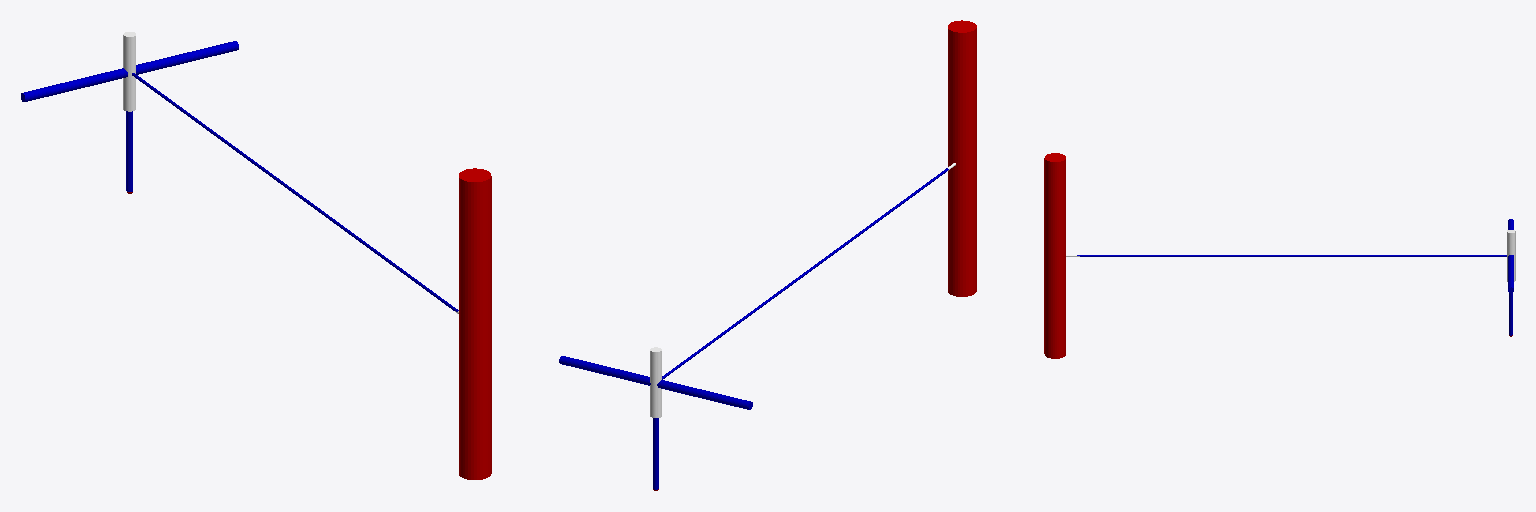
robot.urdf — 1dhopper:
<?xml version="1.0"?>
<robot name="1dhopper">
   <material name="blue">
    <color rgba="0 0 0.8 1"/>
  </material>

  <material name="red">
   <color rgba="0.8 0 0 1"/>
 </material>

  <material name="white">
    <color rgba="1 1 1 0.5"/>
  </material>

  <link name="base">
    <visual>
      <geometry>
        <cylinder length="2" radius="0.1"/>
      </geometry>
      <material name="red"/>
      <origin rpy="0 0 1.57075" xyz="0 0 0"/>
    </visual>
    <collision>
       <geometry>
         <cylinder length="2" radius="0.1"/>
       </geometry>
       <origin rpy="0 0 1.57075" xyz="0 0 0"/>
     </collision>
     <inertial>
     <mass value="1000"/>
     <origin rpy="0 0 1.57075" xyz="0 0 0"/>
     <inertia ixx="0.4" ixy="0.0" ixz="0.0" iyy="0.4" iyz="0.0" izz="0.2"/>
   </inertial>
  </link>

<link name="L1">
    <visual>
      <geometry>
        <cylinder length="0.15" radius="0.01"/>
      </geometry>
      <material name="white"/>
      <origin rpy="1.57075 0 0" xyz="0 0.15 0"/>
    </visual>
    <collision>
       <geometry>
         <cylinder length="0.15" radius="0.01"/>
       </geometry>
       <origin rpy="1.57075 0 0" xyz="0 0.15 0"/>
     </collision>
  <inertial>
     <mass value="0"/>
     <inertia ixx="0.4" ixy="0.0" ixz="0.0" iyy="0.4" iyz="0.0" izz="0.2"/>
     <origin rpy="1.57075 0 0" xyz="0 0.15 0"/>
  </inertial>
</link>

 <joint name="base_jiont_L1" type="continuous">
      <parent link="base"/>
      <child link="L1"/>
       <axis xyz="0 0 1"/>
      <origin xyz="0 0 0"/>
    </joint>

<link name="L2">
    <visual>
      <geometry>
        <cylinder length="4" radius="0.01"/>
      </geometry>
      <material name="blue"/>
      <origin rpy="1.57075 0 0" xyz="0 2 0"/>
    </visual>
  </link>

 <joint name="L1_L2" type="continuous">
      <parent link="L1"/>
      <child link="L2"/>
       <axis xyz="1 0 0"/>
      <origin xyz="0 0.2 0"/>
  </joint>

 <link name="balance_beam">
    <visual>
     <material name="blue"/>
      <geometry>
        <cylinder length="1.5" radius="0.03"/>
      </geometry>
      <origin rpy="0 1.57075 0" xyz="0 0 0"/>
    </visual>
    <collision>
       <geometry>
         <cylinder length="1.5" radius="0.03"/>
       </geometry>
       <origin rpy="0 1.57075 0" xyz="0 0 0"/>
     </collision>
     <inertial>
     <mass value="8"/>
     <inertia ixx="0.4" ixy="0.0" ixz="0.0" iyy="0.4" iyz="0.0" izz="0.2"/>
     <origin rpy="0 1.57075 0" xyz="0 0 0"/>
   </inertial>
  </link>

 <joint name="L2_beam" type="fixed">
      <parent link="L2"/>
      <child link="balance_beam"/>
      <origin xyz="0 4 0"/>
  </joint>

  <link name="base_link">
    <visual>
      <geometry>
        <cylinder length="0.5" radius="0.04"/>
      </geometry>
      <material name="white"/>
    </visual>
    <collision>
       <geometry>
         <cylinder length="0.5" radius="0.04"/>
       </geometry>
     </collision>
     <inertial>
     <mass value="0.15"/>
     <inertia ixx="0.4" ixy="0.0" ixz="0.0" iyy="0.4" iyz="0.0" izz="0.2"/>
   </inertial>

  </link>

  <joint name="base_to_beam" type="revolute">
      <axis xyz="0 1 0"/>
      <limit effort="1000.0" lower="-1.2" upper="1.2" velocity="10"/>
      <parent link="balance_beam"/>
      <child link="base_link"/>
      <origin xyz="0 0 0"/>

    </joint>

    <link name="leg">
        <visual>
          <geometry>
            <cylinder length="0.6" radius="0.02"/>
          </geometry>
          <material name="blue"/>
          <origin rpy="0 0 0" xyz="0 0 0"/>
        </visual>
        <collision>
           <geometry>
             <cylinder length="0.6" radius="0.02"/>
           </geometry>
           <origin rpy="0 0 0" xyz="0 0 0"/>
         </collision>
         <inertial>
         <mass value="0.45"/>
         <inertia ixx="0.4" ixy="0.0" ixz="0.0" iyy="0.4" iyz="0.0" izz="0.2"/>
         <origin rpy="0 0 0" xyz="0 0 -0.4"/>
       </inertial>
      </link>

    <joint name="foot_joint" type="prismatic">
        <axis xyz="0 0 1"/>
        <limit effort="1000.0" lower="0" upper="0.4" velocity="10"/>
        <dynamics damping="10.5" friction="0.8"/>
        <parent link="base_link"/>
        <child link="leg"/>
        <origin xyz="0 0 -0.5"/>

      </joint>

      <link name="toe">
        <visual>
          <geometry>
            <sphere radius="0.02"/>
          </geometry>
          <material name="red"/>
        </visual>
        <collision>
          <geometry>
            <sphere radius="0.02"/>
          </geometry>
         </collision>
         <inertial>
         <mass value="0.45"/>
         <mass value="0.01"/>
         <!-- <inertia ixx="1.0" ixy="0.0" ixz="0.0" iyy="1.0" iyz="0.0" izz="1.0"/> -->
       </inertial>

      </link>

      <joint name="leg_toe" type="fixed">
          <parent link="leg"/>
          <child link="toe"/>
          <origin xyz="0 0 -0.3"/>
        </joint>


</robot>

--- Render facts (derived) ---
3 views of the same robot in one strip: view 1: azimuth 30°, elevation 25°; view 2: azimuth 150°, elevation 25°; view 3: azimuth 270°, elevation 25° (orthographic).
Robot: 1dhopper — 7 links, 6 joints (1 revolute, 2 continuous, 1 prismatic, 2 fixed); root link base; default pose: every joint at zero.
Links seen in each view (by area): view 1: base, balance_beam, L2, base_link, leg; view 2: base, balance_beam, L2, base_link; view 3: base, L2.
Boxes of the visible links, x1,y1,x2,y2 form: base: [459, 168, 491, 479]; balance_beam: [21, 41, 238, 101]; L2: [132, 73, 458, 311]; base_link: [123, 32, 135, 111]; leg: [126, 111, 132, 191]; base: [948, 20, 976, 296]; balance_beam: [559, 356, 752, 409]; L2: [662, 168, 948, 379]; base_link: [650, 347, 661, 417]; base: [1044, 153, 1065, 358]; L2: [1077, 255, 1506, 256].
Size in the robot's own frame: 1.5 by 4.34 by 2 metres.
Geometry: primitives only (box / cylinder / sphere), no mesh files.
